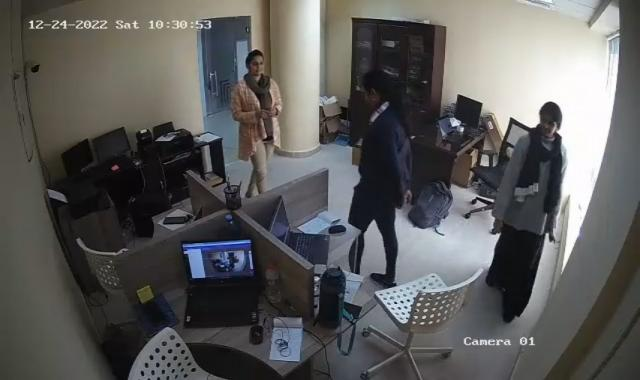no_hairnet: (357, 66, 391, 112), (537, 98, 564, 139), (243, 48, 265, 77)
